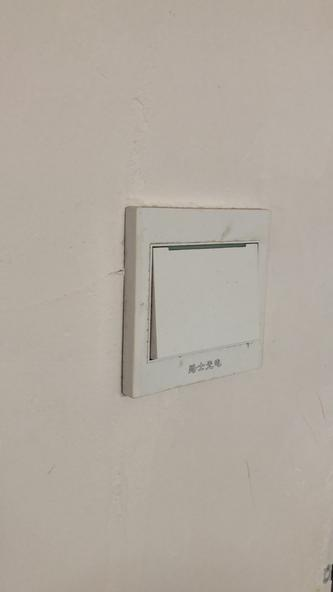switch: (145, 240, 262, 356)
